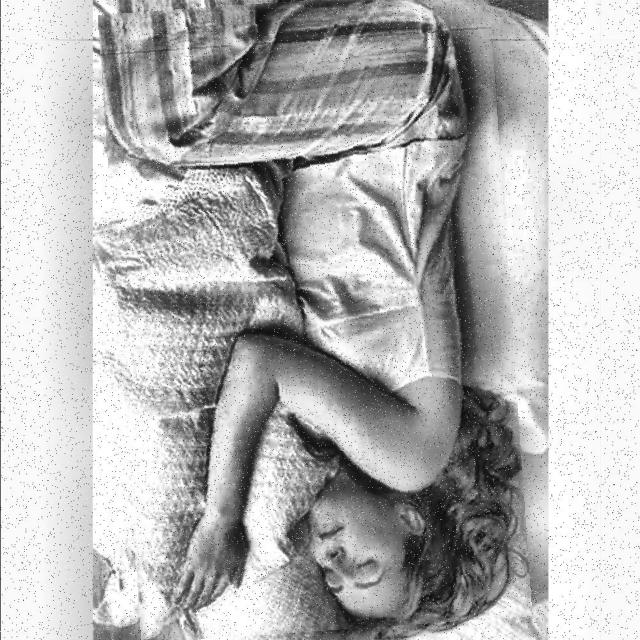Not_Supine: (98, 0, 522, 621)
